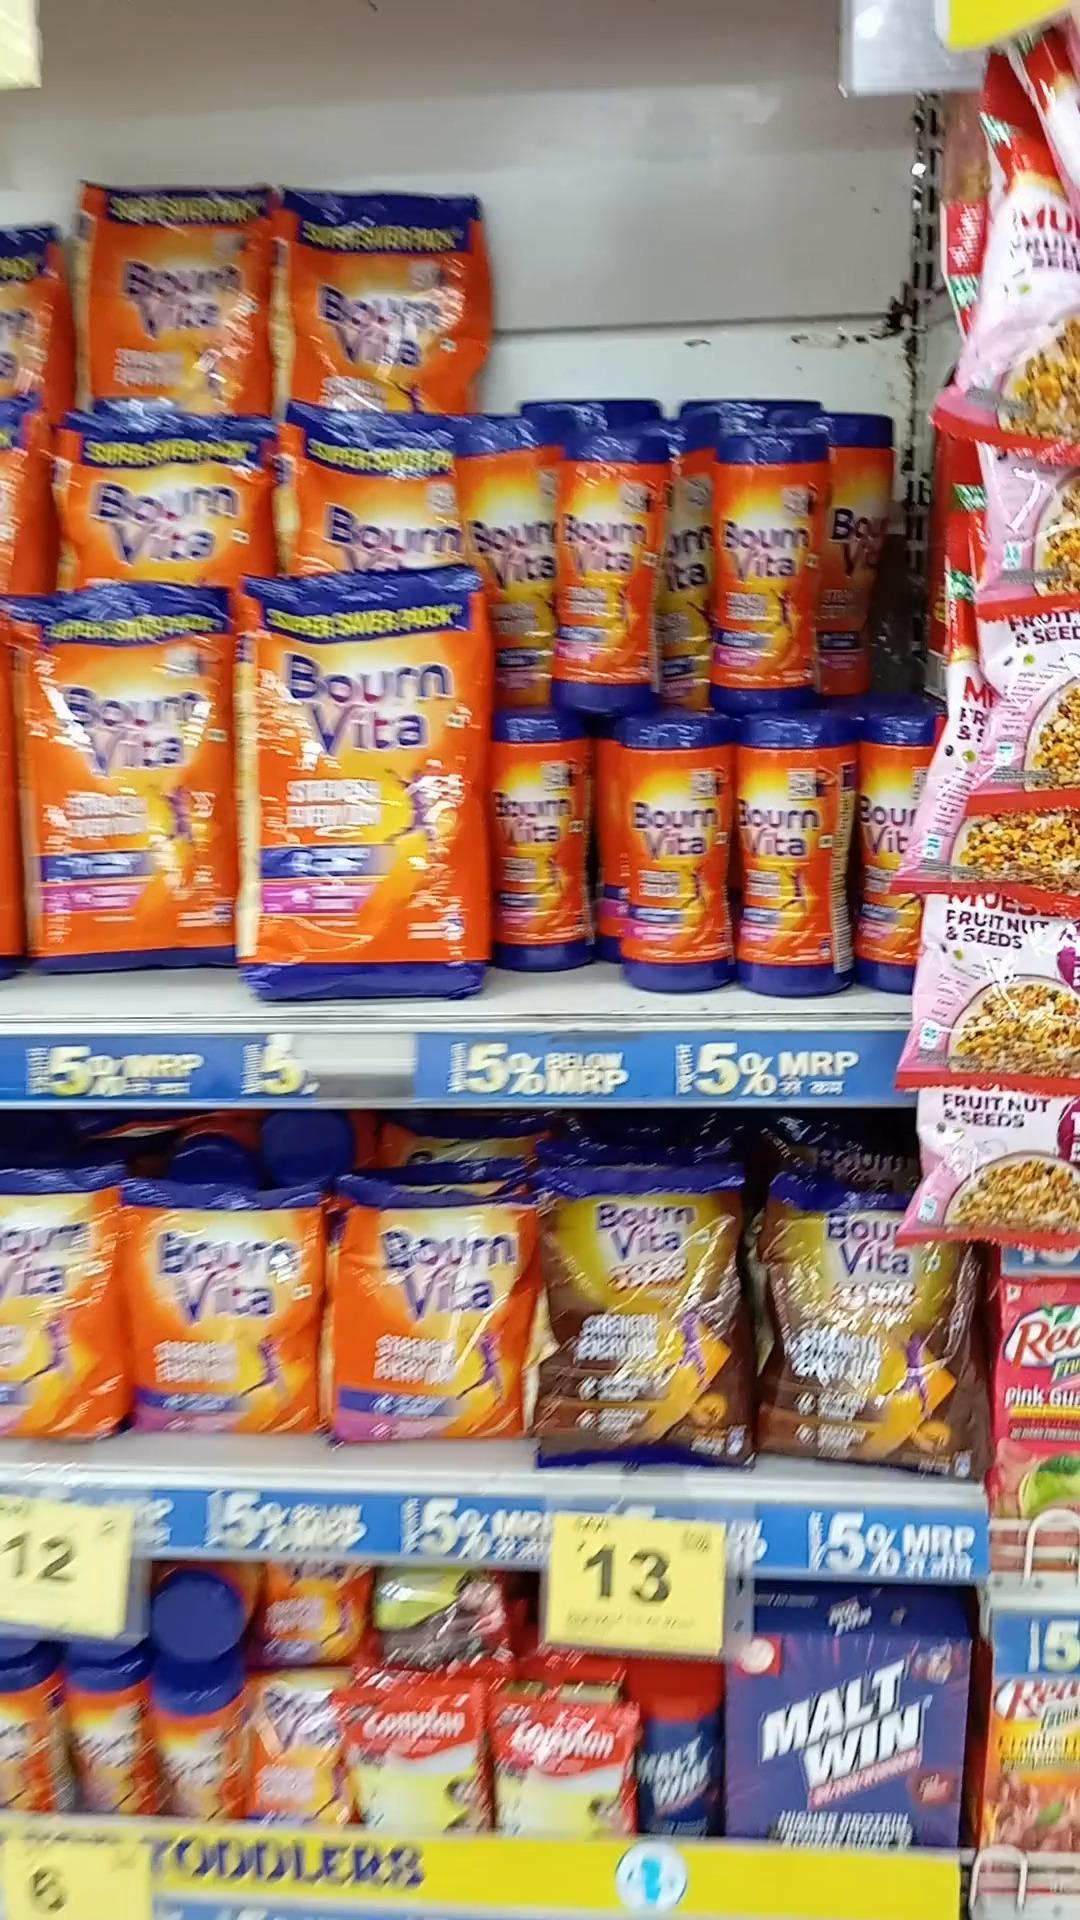BOURN_VITA_1_KG_POUCH: (236, 582, 487, 990), (15, 592, 220, 968), (75, 175, 266, 410), (282, 187, 476, 394)
BOURN_VITA_200_G_JAR: (152, 1681, 241, 1817), (67, 1662, 144, 1815)
BOURN_VITA_500_G_JAR: (553, 434, 666, 716), (736, 723, 849, 998), (713, 434, 822, 708), (617, 727, 727, 993), (497, 724, 595, 968)
BOURN_VITA_500_G_POUCH: (330, 1180, 518, 1448), (127, 1176, 306, 1436)
BOURN_VITA_75_G_POUCH: (252, 1676, 339, 1822)
BOURN_VITA_FIVE_STAR_MAGIC_500_G_POUCH: (533, 1172, 748, 1462), (771, 1180, 969, 1464)
